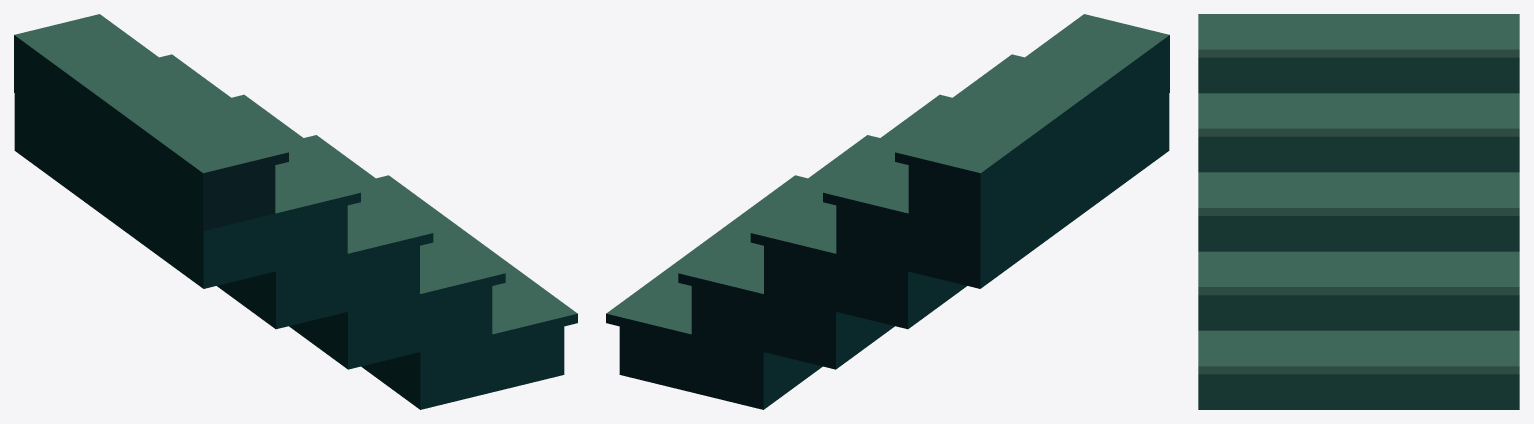
The model's file is StairCase.fbx.
3 views of the same model, side by side, from view 1: azimuth 30°, elevation 25°; view 2: azimuth 150°, elevation 25°; view 3: azimuth 270°, elevation 25° (orthographic). The views are drawn at different scales.
Visible parts, largest first — view 1: StairCase_geo; view 2: StairCase_geo; view 3: StairCase_geo.
Boxes of the visible parts, bbox=[...] form: StairCase_geo: bbox=[14, 14, 577, 409]; StairCase_geo: bbox=[606, 14, 1169, 409]; StairCase_geo: bbox=[1198, 14, 1519, 409].
Size of the model in its own units: 446 by 329 by 390.
1 material, 1 textured.
